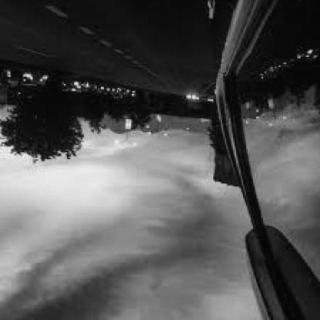other: (76, 132, 121, 172)
